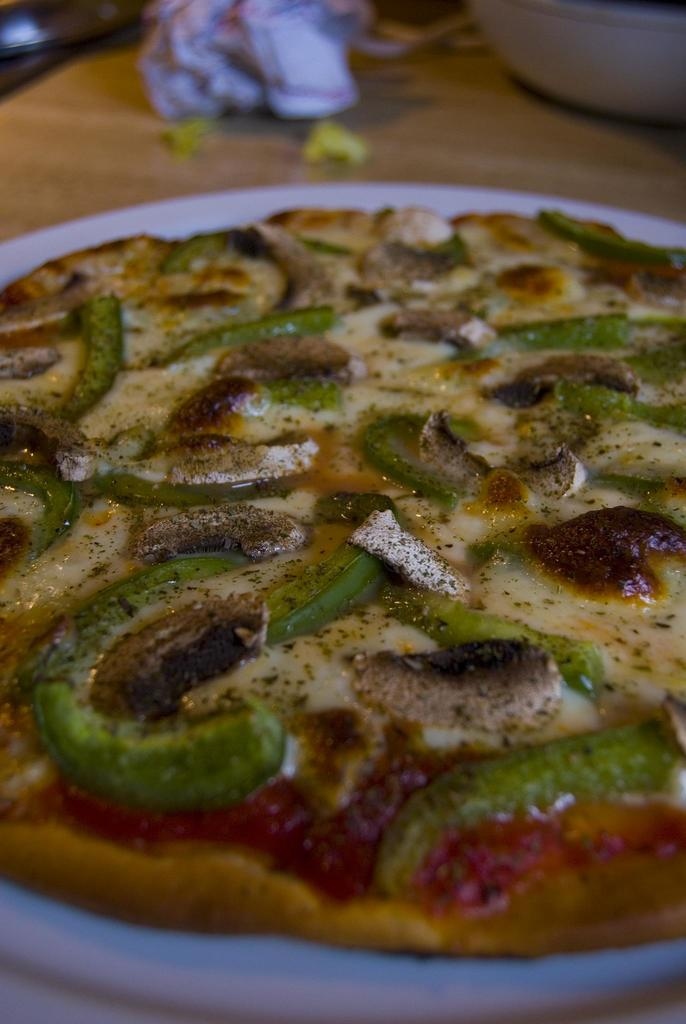Pizza: (0, 206, 685, 956)
